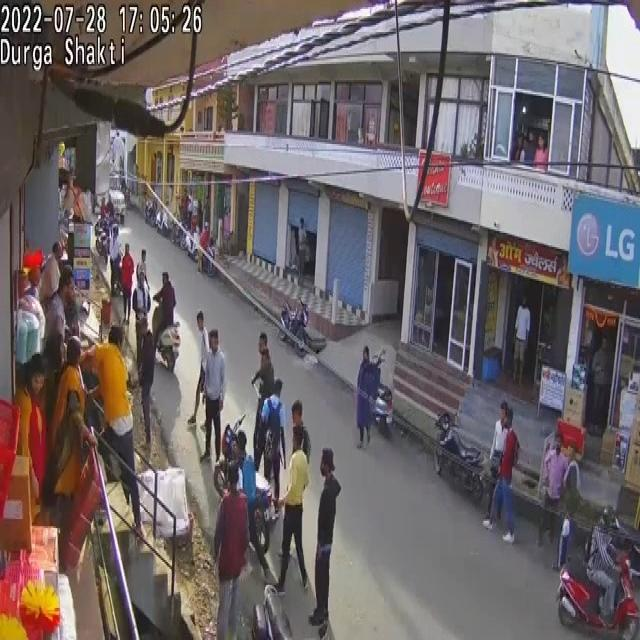fight: (9, 223, 165, 562), (46, 336, 94, 536), (13, 356, 47, 521)
non-fight: (81, 328, 140, 533), (306, 450, 342, 636), (212, 460, 249, 640), (272, 434, 310, 602), (234, 437, 272, 582), (481, 401, 517, 533), (585, 506, 625, 621), (539, 436, 572, 555), (258, 379, 286, 510), (251, 336, 275, 468), (186, 314, 212, 426), (137, 320, 157, 446), (356, 345, 378, 447), (286, 400, 309, 491), (513, 294, 531, 385), (152, 273, 176, 339), (204, 345, 225, 404), (120, 245, 134, 323), (108, 225, 122, 294), (199, 223, 211, 274)
